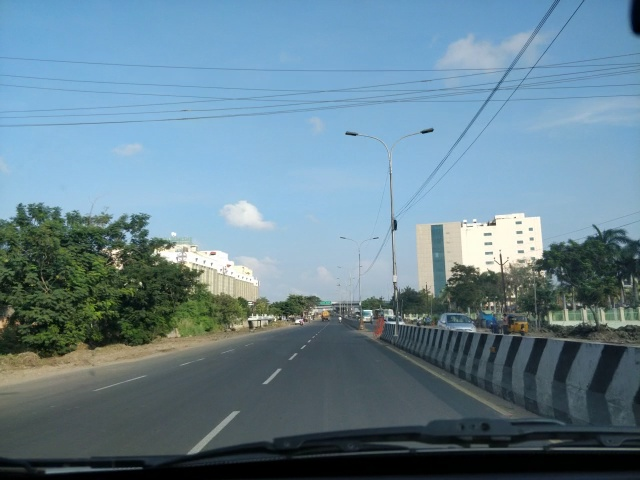auto: (502, 312, 529, 335)
car: (438, 312, 479, 333), (385, 313, 405, 328), (294, 317, 304, 325)
motorbike: (337, 315, 343, 322)
truck: (361, 309, 375, 324), (321, 310, 332, 323)
